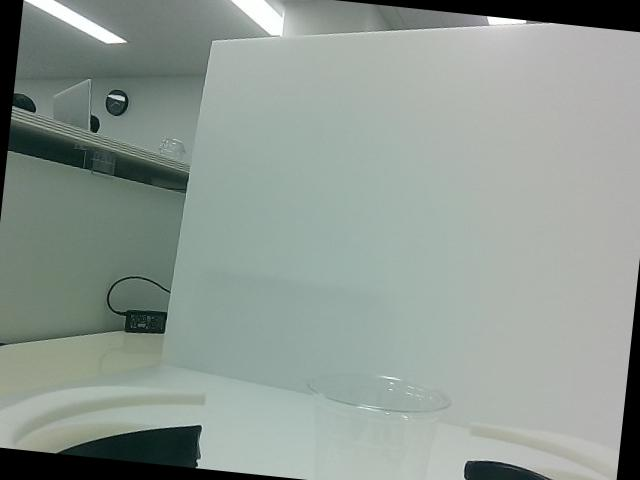Plastik: (309, 373, 450, 480)
